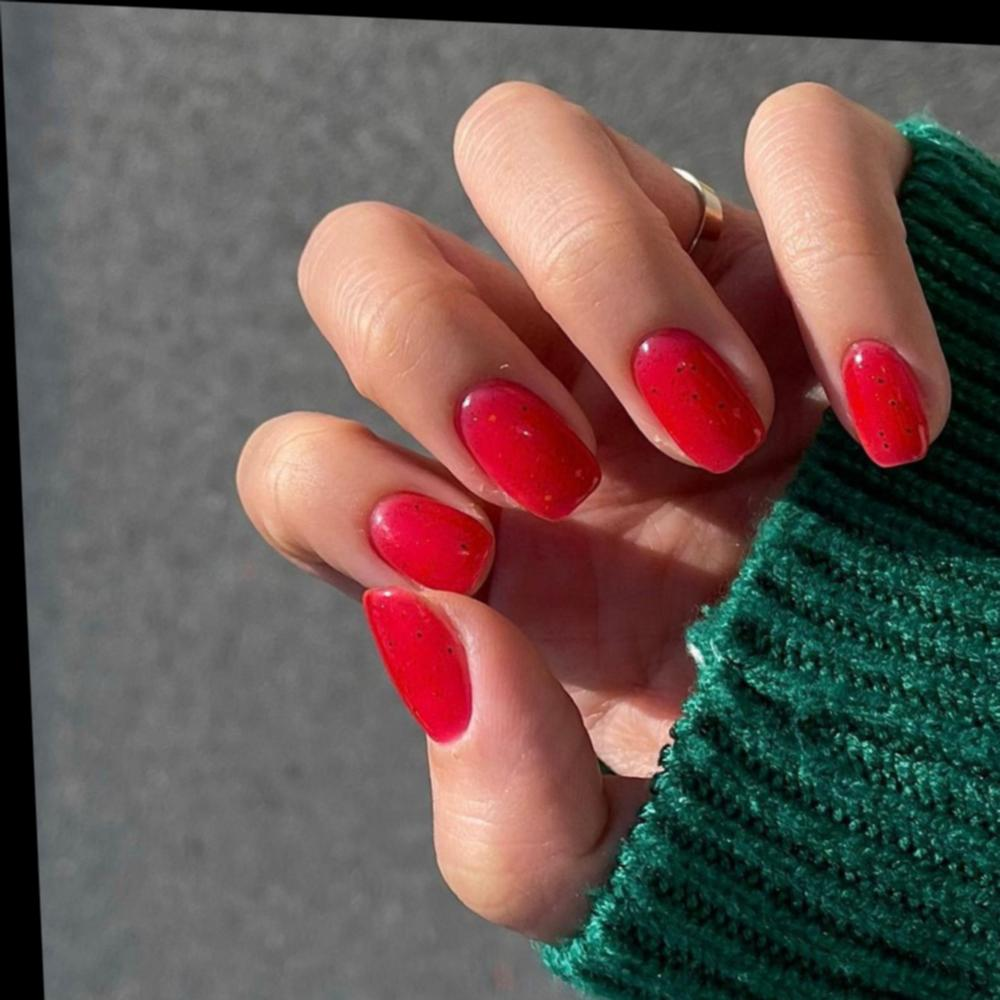nail: (450, 376, 603, 525), (627, 324, 768, 477), (359, 585, 475, 747), (363, 489, 499, 599), (836, 337, 932, 471), (668, 165, 726, 256)
